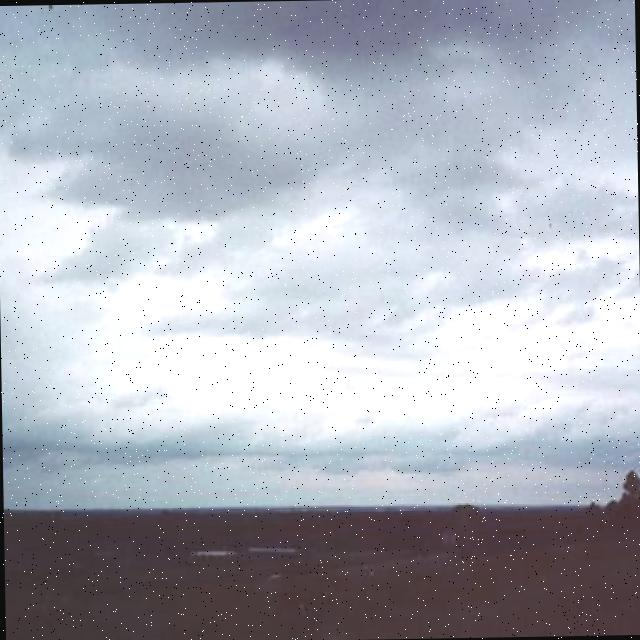St: (1, 1, 640, 392)
